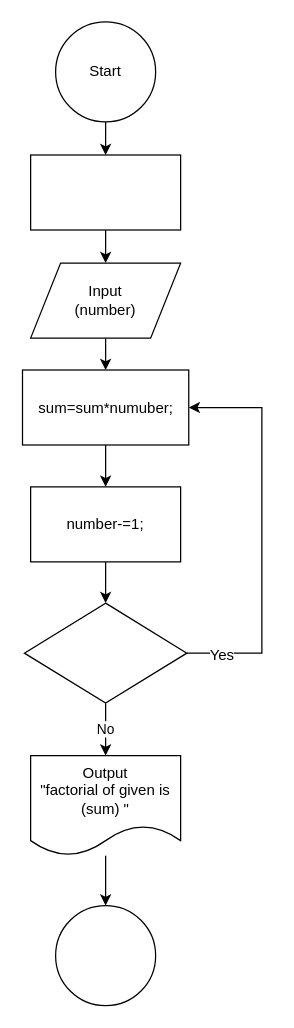
Some shapes in this 294 by 1028 pixel diagram are drawn without their labels. The centre of each missing label's shape, as x and y in pixels:
"End" goes at (105,955).
"number>0?" goes at (105,652).
"var number; var sum=1;" goes at (105,192).
